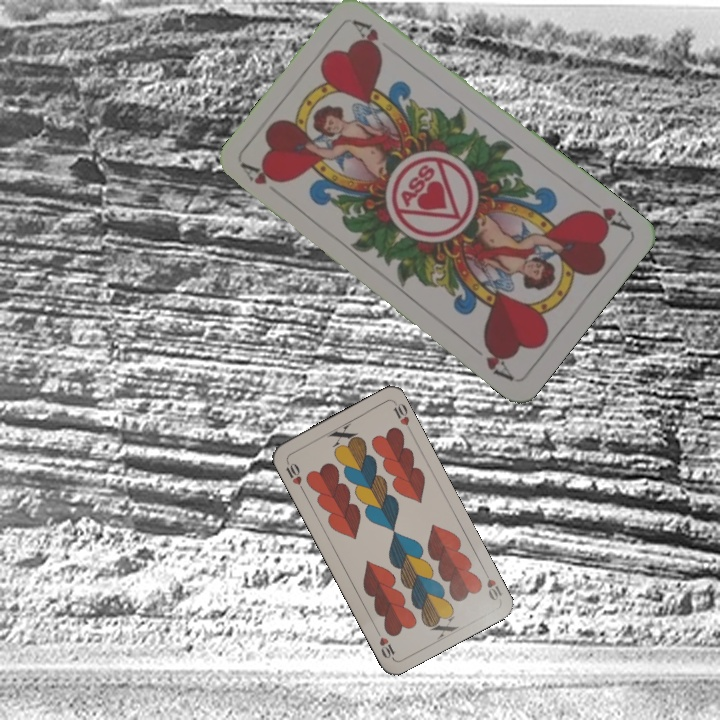H10: (479, 565, 505, 603), (282, 456, 306, 494)
HA: (579, 192, 634, 233), (238, 159, 284, 188)
